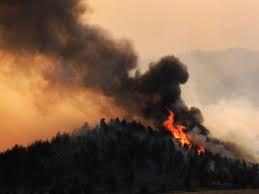fire: (162, 108, 206, 154)
yanwu: (0, 0, 244, 158)
